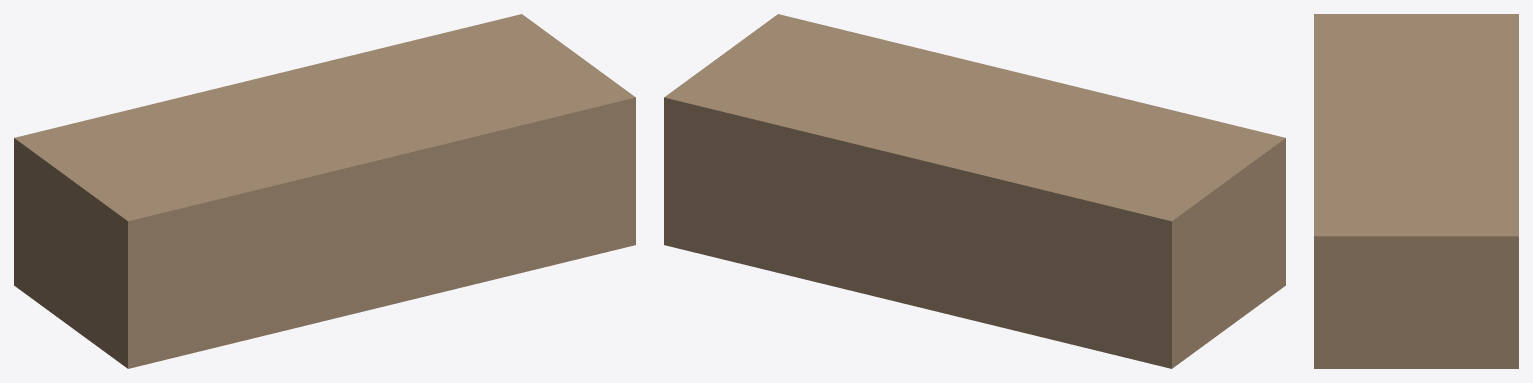
Rendered from Trough.glb.
3 views of the same model, side by side, from view 1: azimuth 30°, elevation 25°; view 2: azimuth 150°, elevation 25°; view 3: azimuth 270°, elevation 25° (orthographic). The views are drawn at different scales.
Parts seen in each view (by area): view 1: Trough; view 2: Trough; view 3: Trough.
Boxes of the visible parts, left/top/right/bottom form: Trough: left=14, top=14, right=635, bottom=368; Trough: left=664, top=14, right=1285, bottom=368; Trough: left=1314, top=14, right=1518, bottom=368.
Size of the model in its own units: 1.8 by 0.5 by 0.7.
